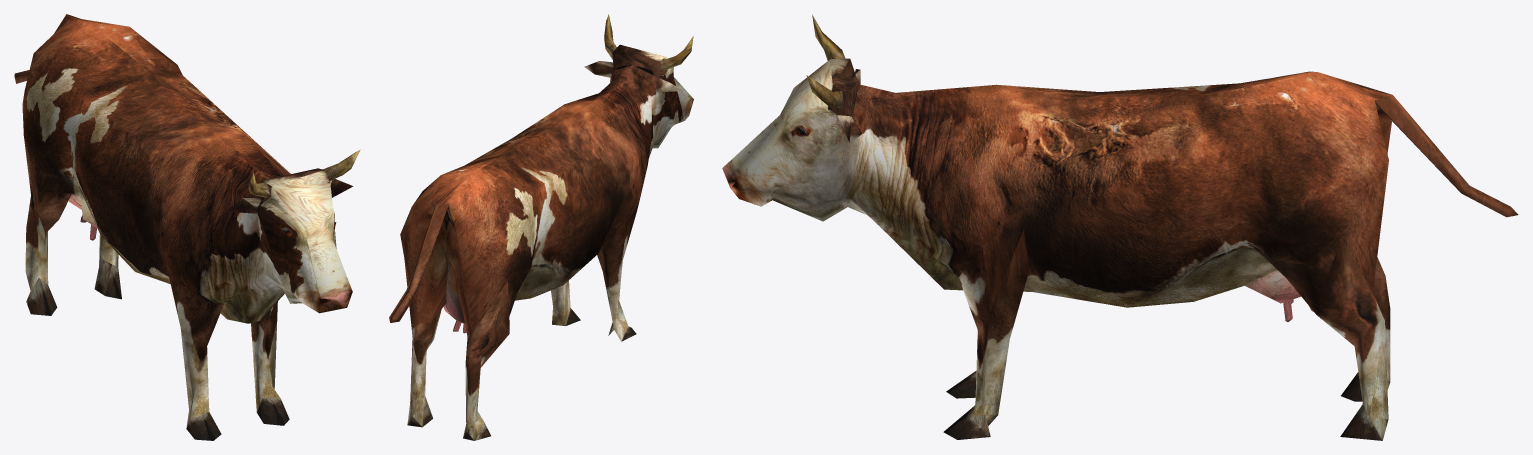
Rendered from cow-stand-brown-cbj_LOD01.gltf.
3 renders of one model, left to right at view 1: azimuth 30°, elevation 25°; view 2: azimuth 150°, elevation 25°; view 3: azimuth 270°, elevation 25°, orthographic. The views are drawn at different scales.
Parts seen in each view (by area): view 1: Line01.002; view 2: Line01.002; view 3: Line01.002.
Boxes of the visible parts, x1,y1,x2,y2 form: Line01.002: (14,14,360,440); Line01.002: (389,14,693,440); Line01.002: (722,14,1518,440).
Bounding box in the file's own units: 0.8401 × 1.79 × 3.49.
